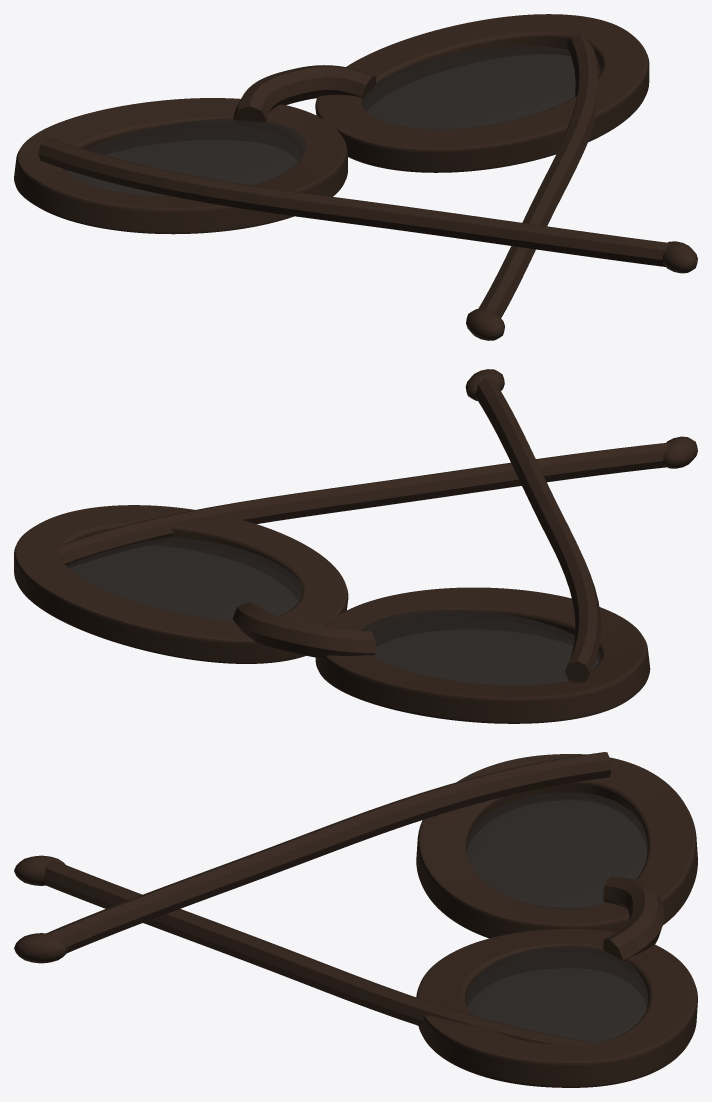
Rendered from glasses.glb.
3 renders of one model, top to bottom at view 1: azimuth 30°, elevation 25°; view 2: azimuth 150°, elevation 25°; view 3: azimuth 270°, elevation 25°, orthographic. The views are drawn at different scales.
Parts seen in each view (by area): view 1: Sunglasses; view 2: Sunglasses; view 3: Sunglasses.
Boxes of the visible parts, x1,y1,x2,y2 form: Sunglasses: (14, 14, 697, 340); Sunglasses: (14, 369, 697, 723); Sunglasses: (14, 752, 697, 1087).
Bounding box in the file's own units: 0.1241 × 0.0129 × 0.1161.
